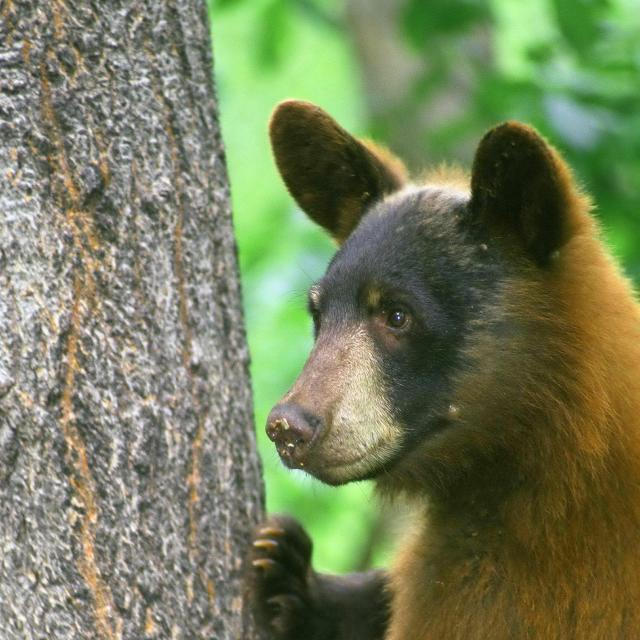Bear: (243, 99, 640, 640)
